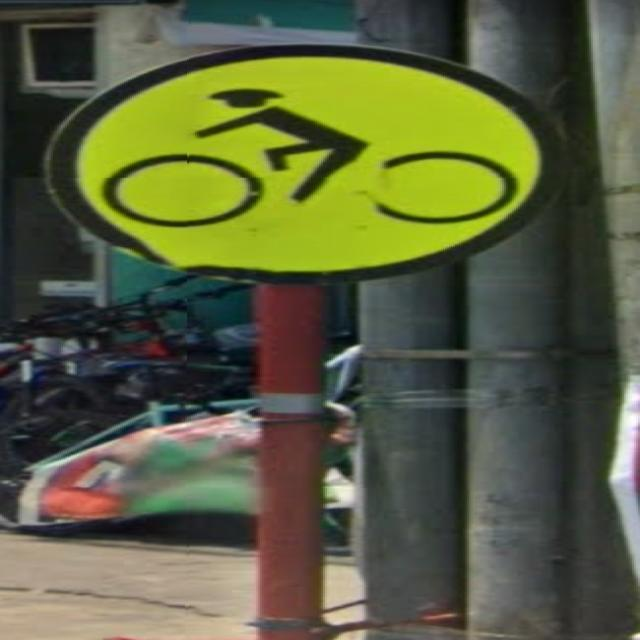bike lane: (51, 43, 557, 282)
